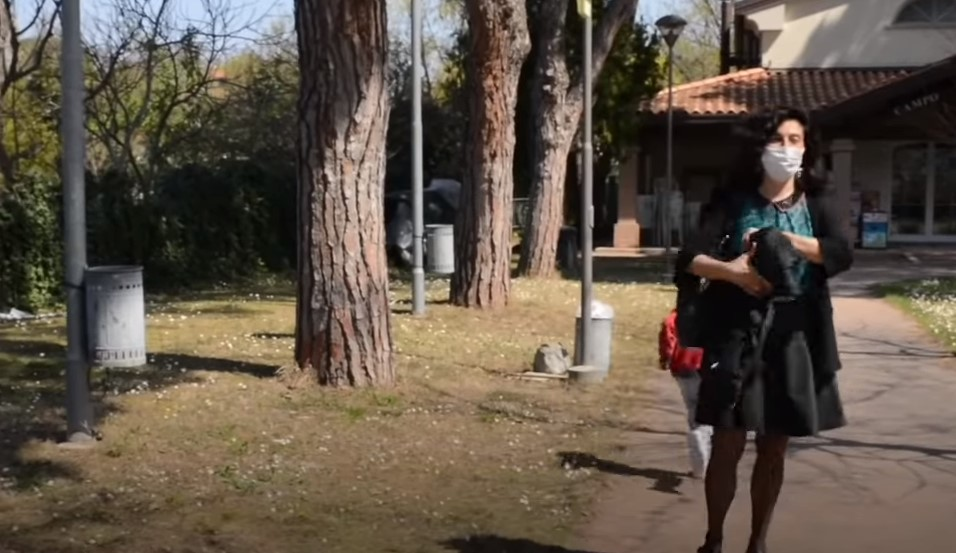face_with_mask: (750, 106, 815, 187)
